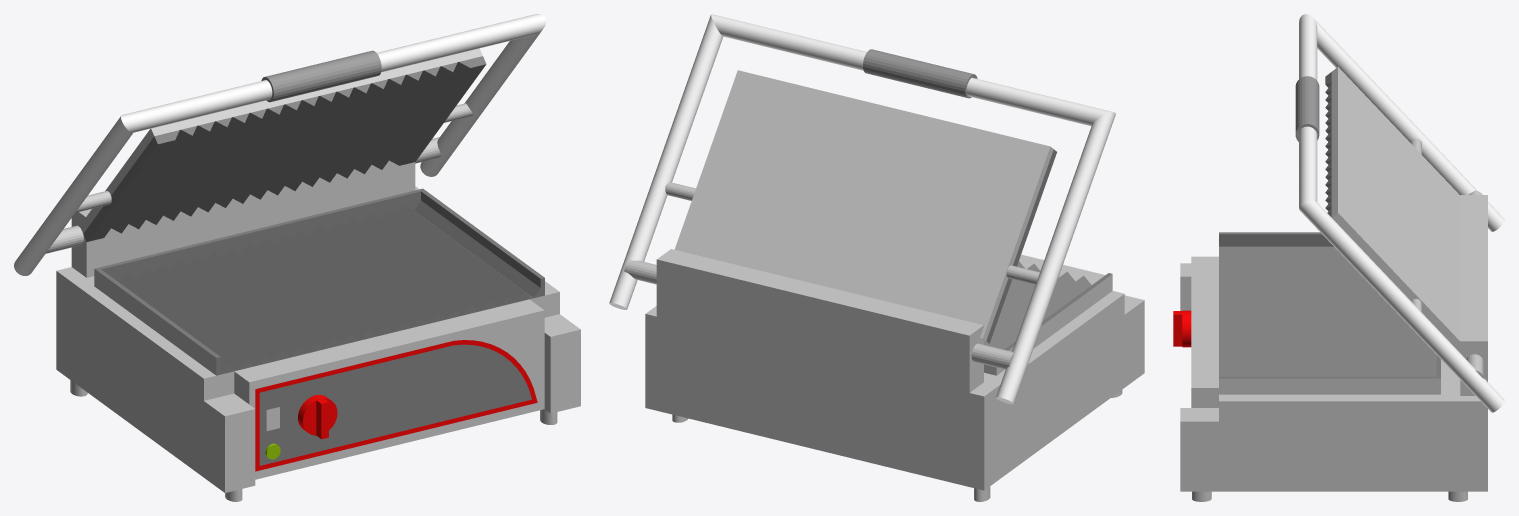
The model's file is sandwich_iron.glb.
The picture shows the model from 3 angles, left to right: view 1: azimuth 30°, elevation 25°; view 2: azimuth 150°, elevation 25°; view 3: azimuth 270°, elevation 25°; orthographic projection. The views are drawn at different scales.
Visible parts, largest first — view 1: Mesh11_Color_007_0, Mesh11_stainless_steel3_0, Mesh8_Color_007_0, Mesh6_FrontColor_0, Group1, Group10, Mesh11_Color_A01_0, Mesh5_Color_006_0, Mesh10_Color_A01_0; view 2: Group10, Mesh11_stainless_steel3_0, Group1, Mesh6_FrontColor_0, Mesh11_Color_007_0, Mesh5_Color_006_0, Mesh8_Color_007_0, Group3, Group4; view 3: Mesh11_stainless_steel3_0, Mesh11_Color_007_0, Group10, Mesh6_FrontColor_0, Group1, Mesh5_Color_006_0, Mesh8_Color_007_0, Mesh10_Color_A01_0.
Boxes of the visible parts, x1,y1,x2,y2 form: Mesh11_Color_007_0: (95,188,544,465); Mesh11_stainless_steel3_0: (56,186,580,501); Mesh8_Color_007_0: (83,56,486,241); Mesh6_FrontColor_0: (14,14,546,275); Group1: (71,160,415,277); Group10: (80,48,482,233); Mesh11_Color_A01_0: (255,340,537,471); Mesh5_Color_006_0: (261,50,381,102); Mesh10_Color_A01_0: (298,395,337,439); Group10: (674,70,1053,343); Mesh11_stainless_steel3_0: (645,254,1144,501); Group1: (656,249,983,392); Mesh6_FrontColor_0: (609,14,1115,404); Mesh11_Color_007_0: (984,261,1111,350); Mesh5_Color_006_0: (863,49,977,98); Mesh8_Color_007_0: (986,149,1056,343); Group3: (971,343,1013,369); Group4: (624,260,656,284); Mesh11_stainless_steel3_0: (1180,256,1487,501); Mesh11_Color_007_0: (1219,232,1440,378); Group10: (1331,67,1460,352); Mesh6_FrontColor_0: (1299,14,1504,412); Group1: (1460,195,1487,395); Mesh5_Color_006_0: (1295,76,1319,141); Mesh8_Color_007_0: (1325,72,1331,216); Mesh10_Color_A01_0: (1173,310,1191,347).
Size of the model in its own units: 0.488 by 0.3907 by 0.363.
